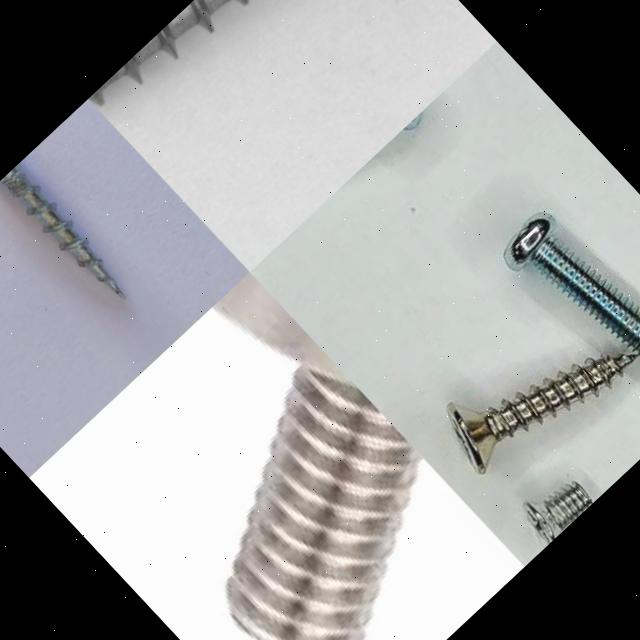Screw: (213, 272, 422, 640), (89, 0, 434, 203), (447, 354, 638, 473), (504, 213, 640, 353), (0, 165, 126, 299), (524, 481, 593, 543)
